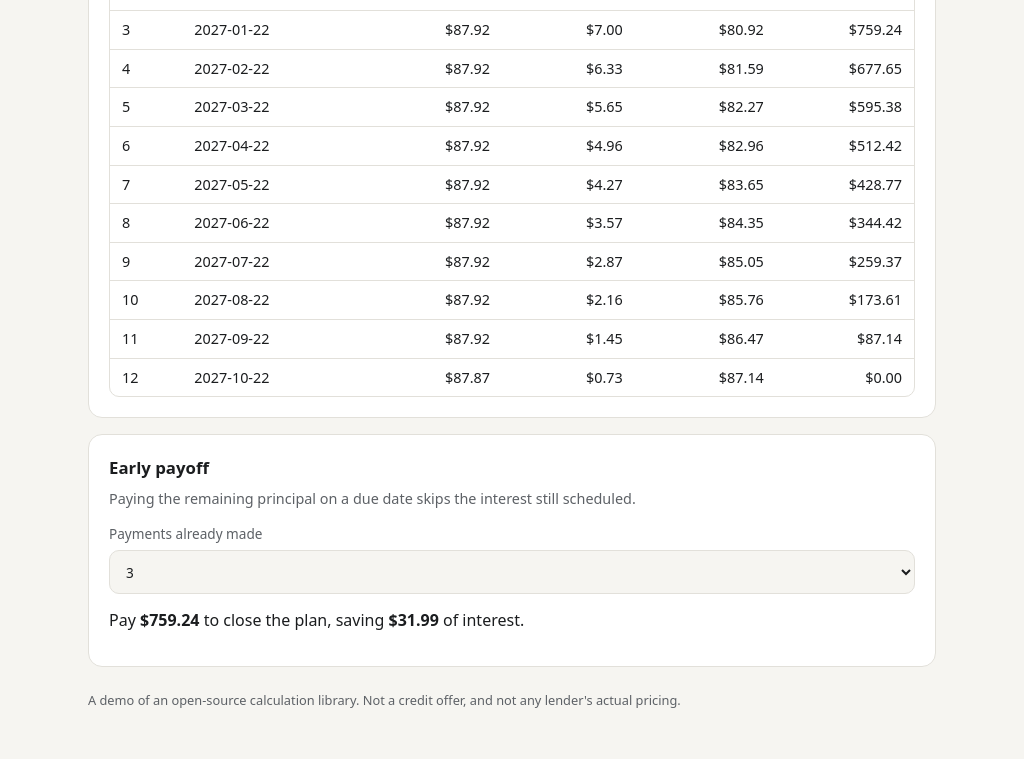
calculator UI › early payoff quote matches the schedule balance
(page scrolled)
expect the element with test id "payoff" reads "Pay $759.24 to close the plan, saving $31.99 of interest.": met, box [109,609,524,631]
Step 1. Select "12" in the dropdown labelled "Payments already made" → (512, 572), box [109,550,915,594]
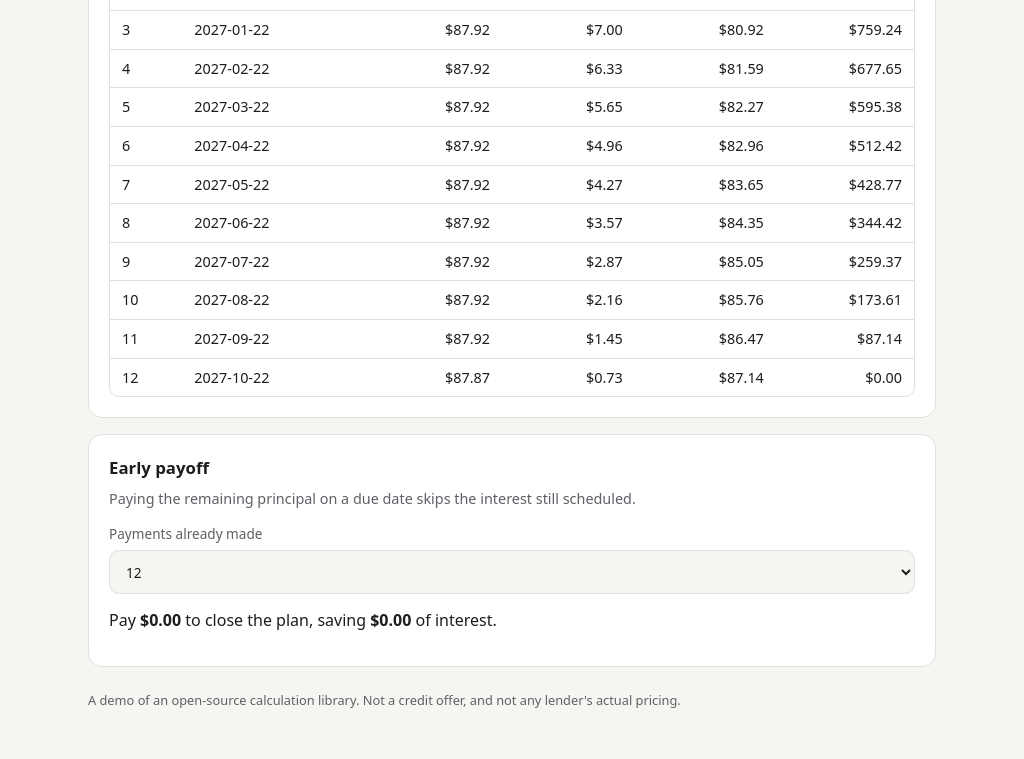
expect the element with test id "payoff" shows "Pay $0.00": met, box [109,609,497,631]
